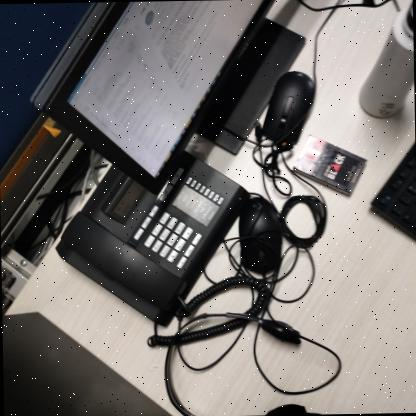bungkus rokok: (289, 129, 371, 201)
